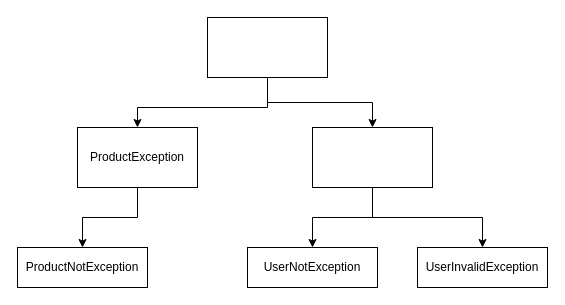
This 565x305 diagram has some shape labels left out. Each missing label, with the centre of its shape:
"BusinessException" belongs at [267,47].
"UserException" belongs at [372,157].
